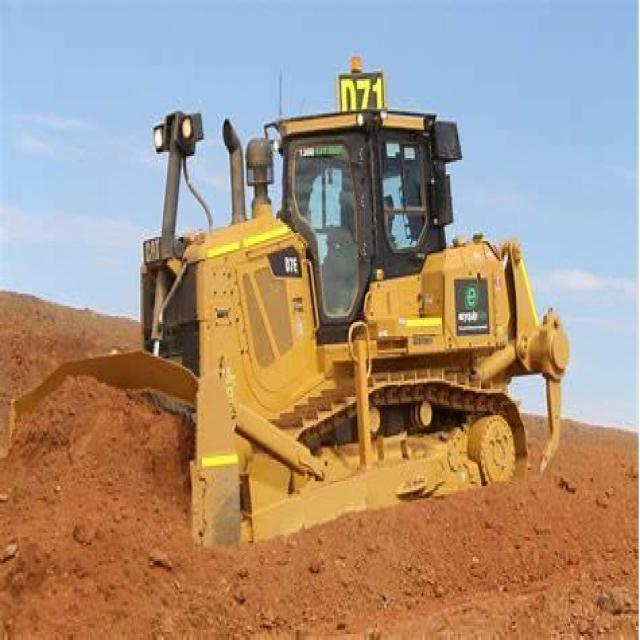Bulldozer: (19, 69, 572, 555)
